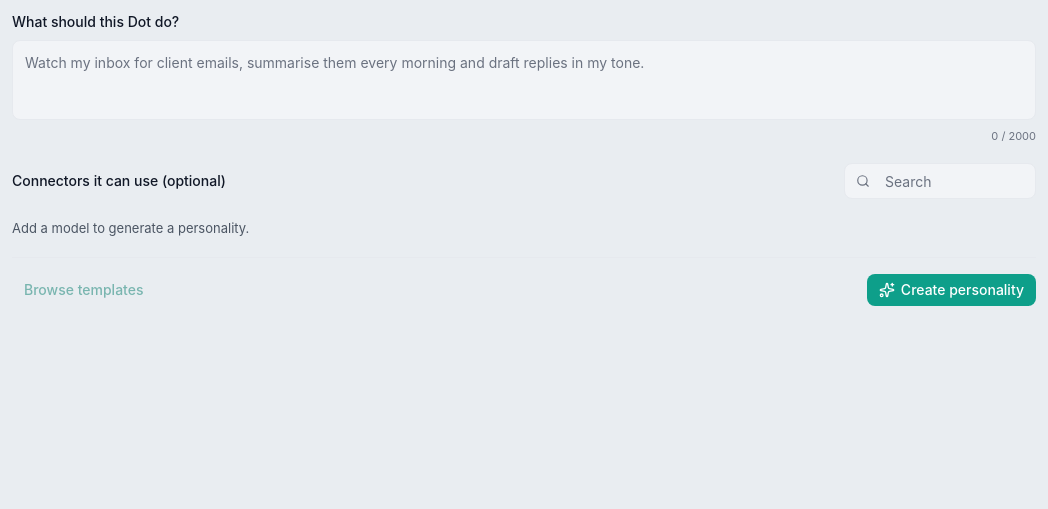
Test: DescribeStep › requires at least 10 characters
Replace the text in the text box labelled "What should this Dot do?" with "short" at (524, 80), box [12,40,1036,120]
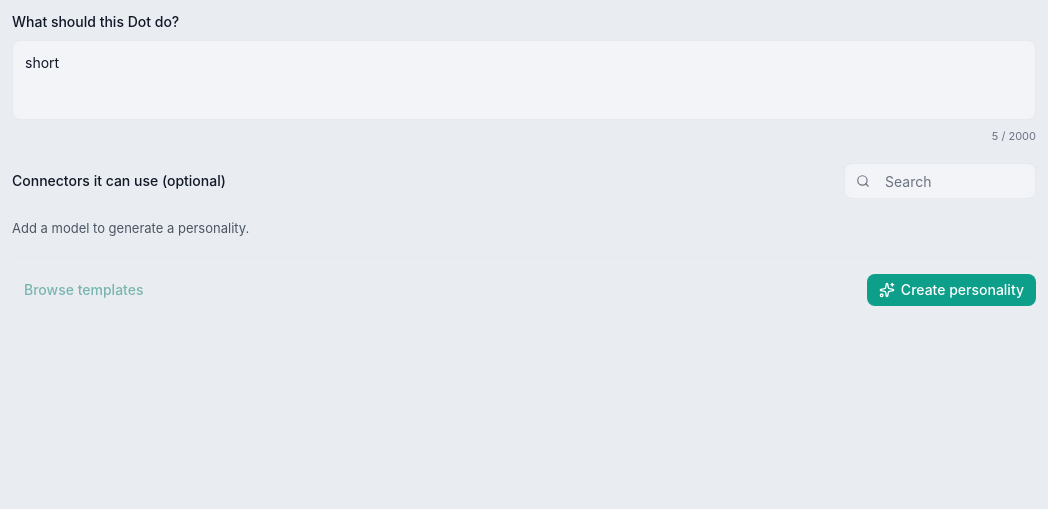
Click the button "Create personality" at (951, 290), box [867,274,1036,306]
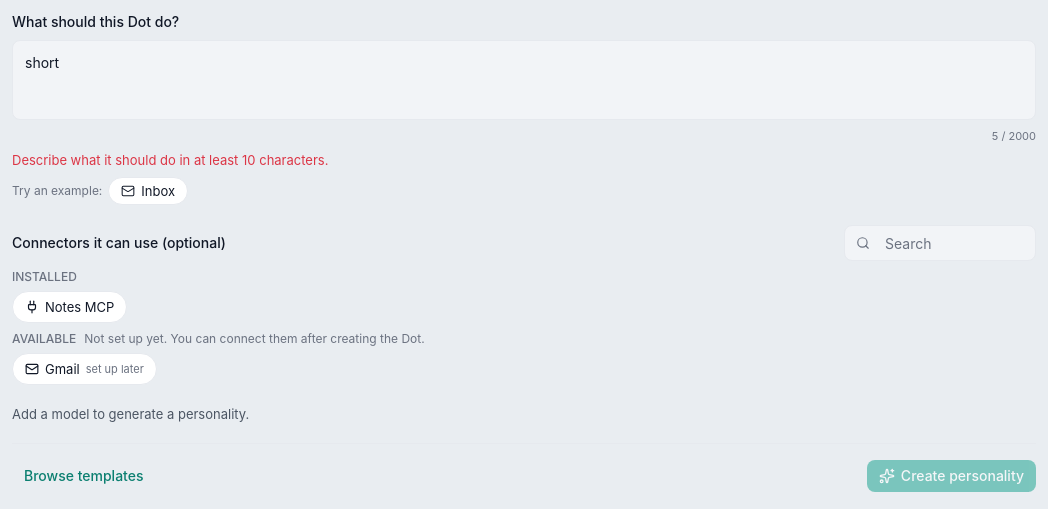
Check: the text "Describe what it should do in at least 10 characters." is shown, box [12,152,328,168]
